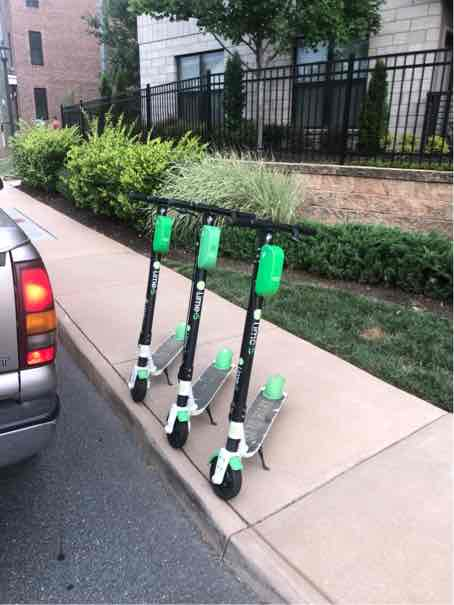too close: (184, 450, 259, 533), (149, 405, 201, 480), (110, 369, 163, 433)
